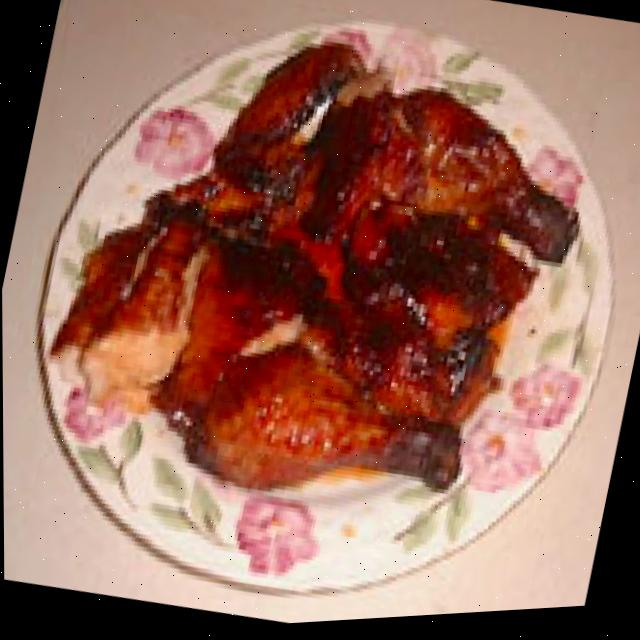鸡肉料理 含炸鸡: (32, 0, 610, 562)
